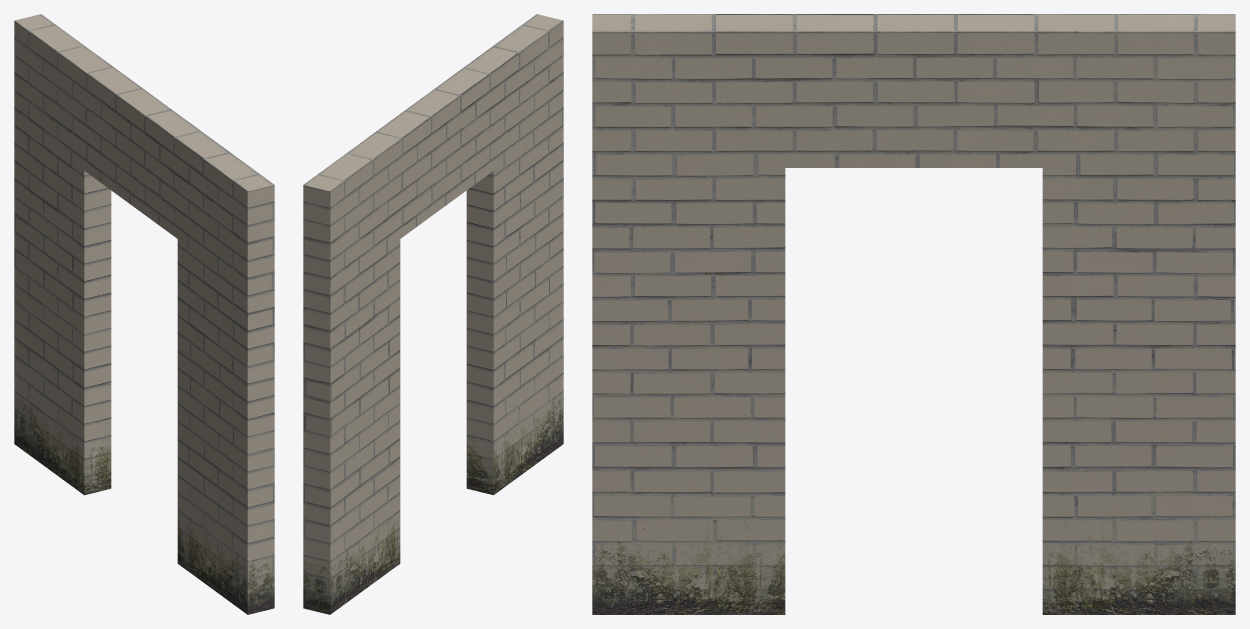
The model's file is BrickWall_Door_Grunge_01.FBX.
3 renders of one model, left to right at view 1: azimuth 30°, elevation 25°; view 2: azimuth 150°, elevation 25°; view 3: azimuth 270°, elevation 25°, orthographic. The views are drawn at different scales.
Parts seen in each view (by area): view 1: Box003; view 2: Box003; view 3: Box003.
Boxes of the visible parts, <box> form: Box003: <box>14,14,274,614</box>; Box003: <box>303,14,563,614</box>; Box003: <box>592,14,1235,614</box>.
Size of the model in its own units: 0.2 by 3 by 3.
